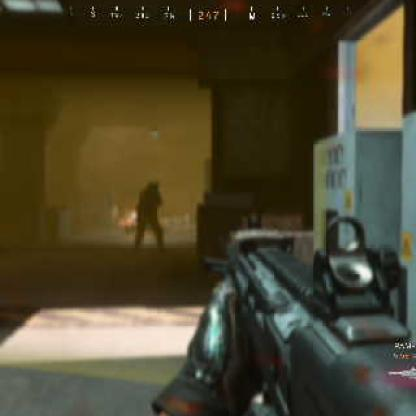enemy: (130, 181, 168, 251)
